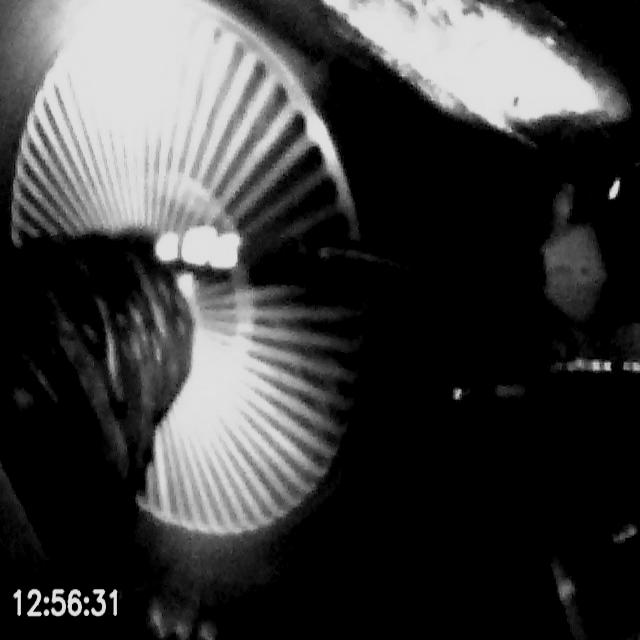head: (542, 223, 640, 326)
white-dots: (154, 225, 244, 271)
